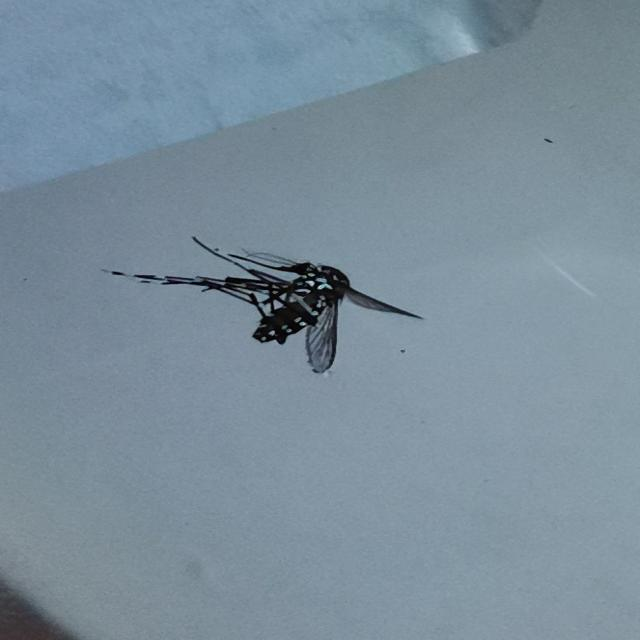albopictus: (104, 220, 420, 386)
